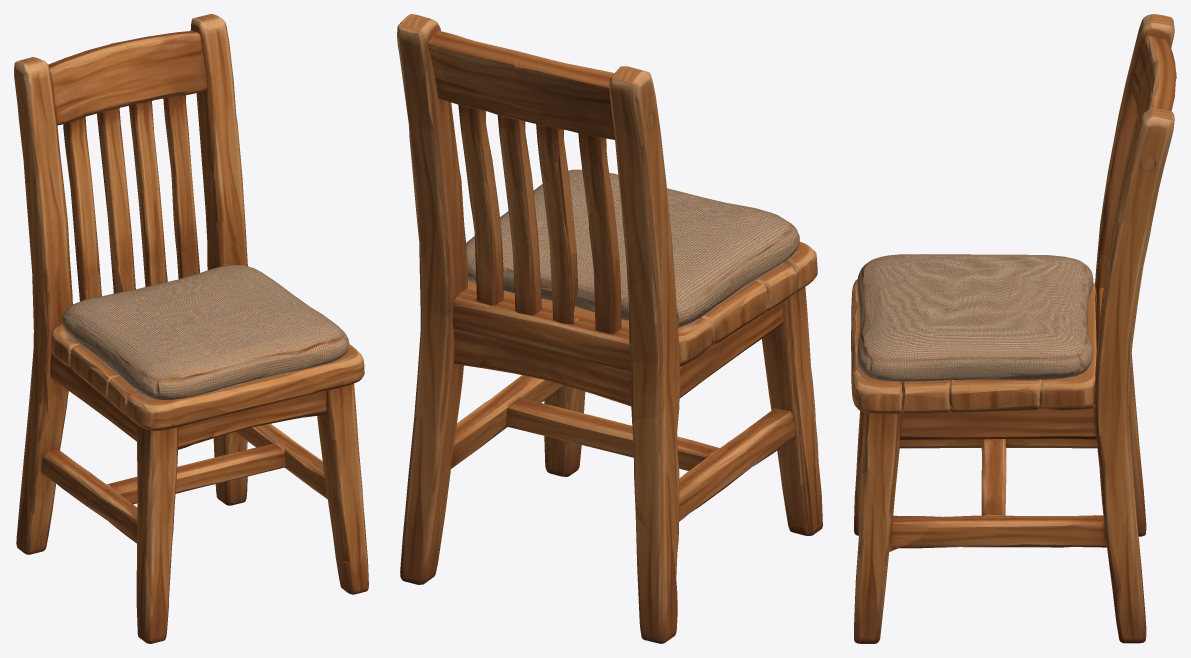
File: raw_chair.glb
The picture shows the model from 3 angles, left to right: view 1: azimuth 30°, elevation 25°; view 2: azimuth 150°, elevation 25°; view 3: azimuth 270°, elevation 25°; orthographic projection. The views are drawn at different scales.
Size of the model in its own units: 0.9363 by 1.9 by 1.08.
1 material, 1 textured.
